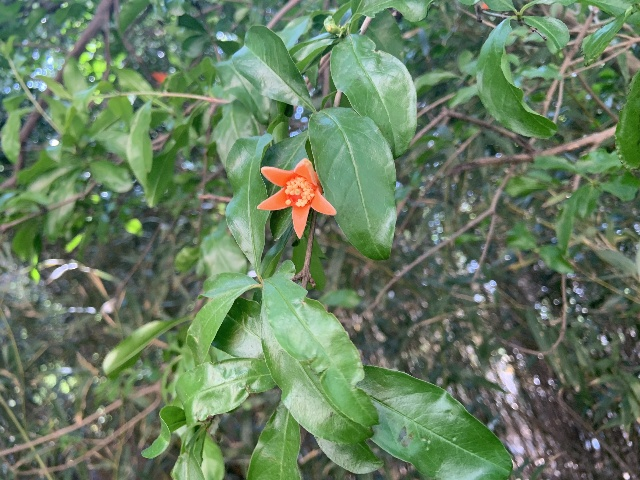flower: (256, 157, 336, 238)
